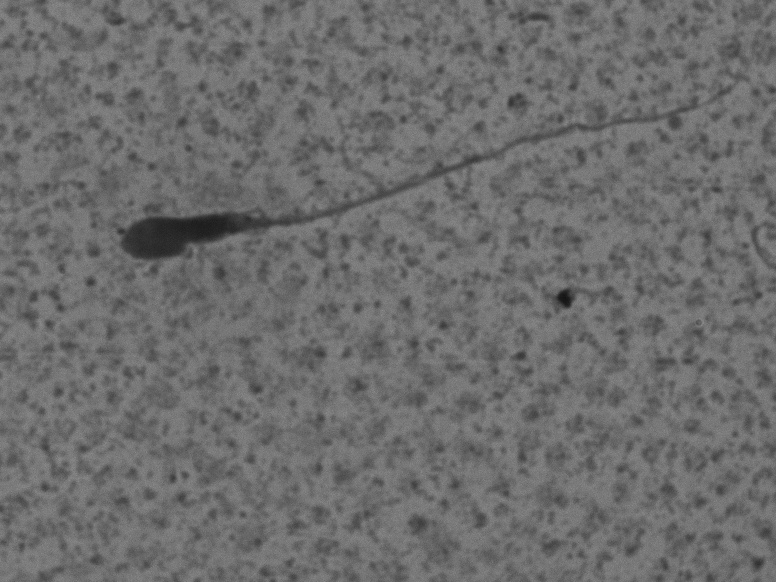Abnormal: (78, 65, 763, 270)
